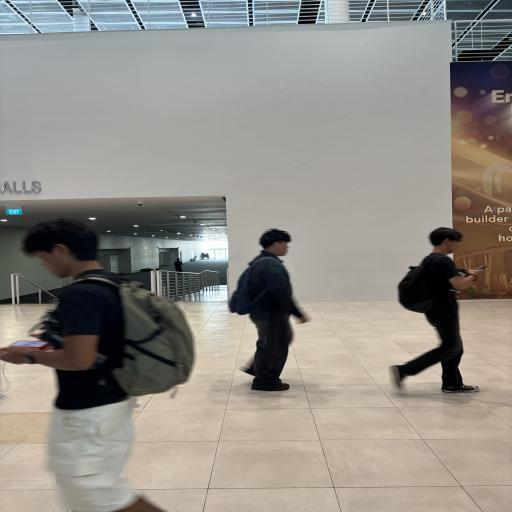person_left: (2, 212, 208, 510)
person_right: (375, 218, 492, 404), (240, 223, 310, 400)
